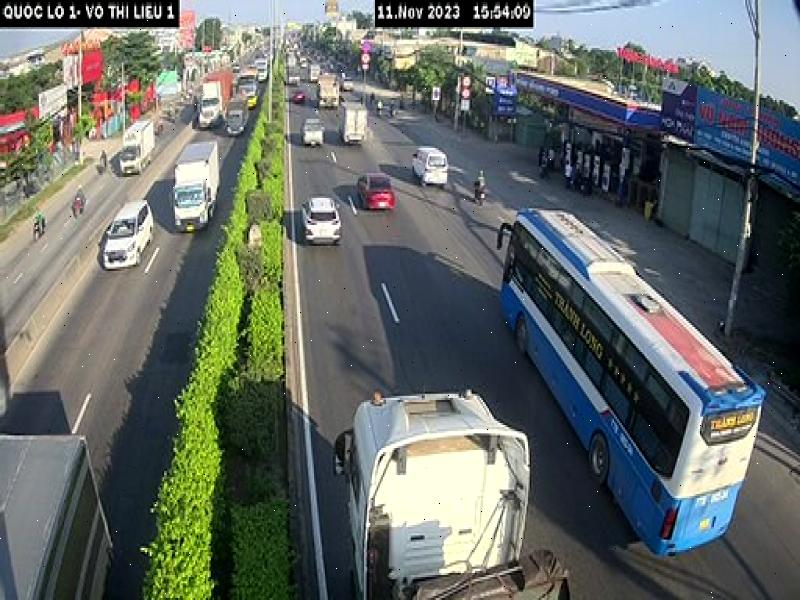bus: (498, 203, 764, 559)
truck: (333, 385, 575, 600), (176, 141, 220, 234)
